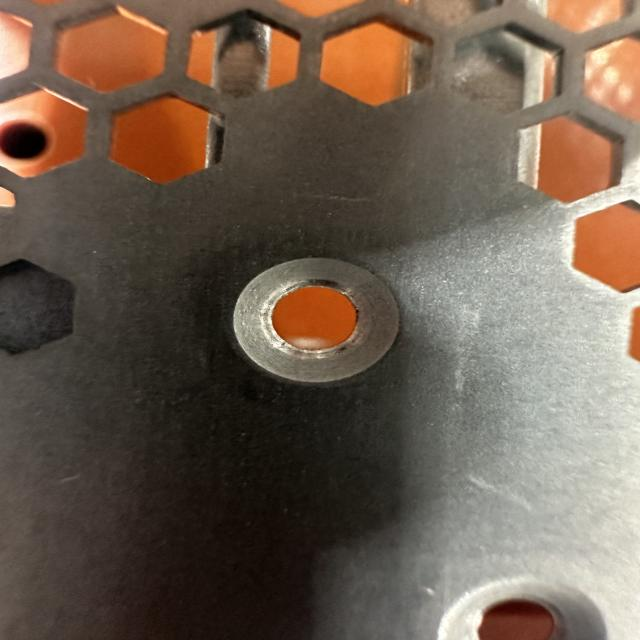Missing screw: (216, 244, 428, 404)
